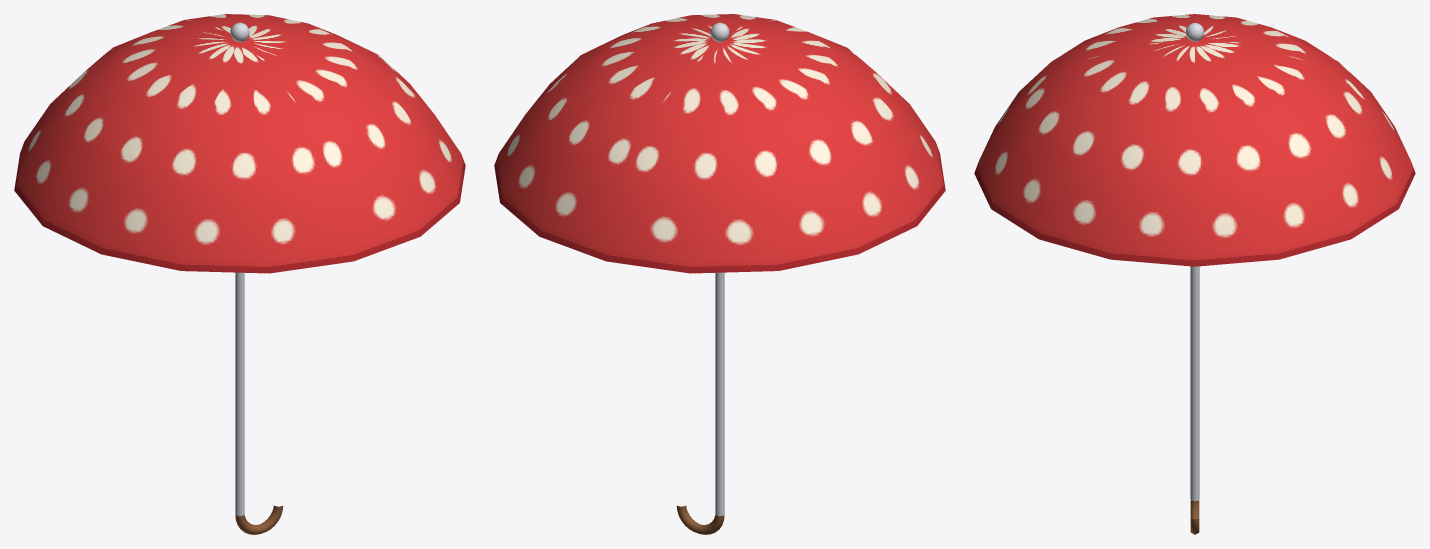
The model's file is fc_umbrella.glb.
3 views of the same model, side by side, from view 1: azimuth 30°, elevation 25°; view 2: azimuth 150°, elevation 25°; view 3: azimuth 270°, elevation 25° (orthographic). The views are drawn at different scales.
Visible parts, largest first — view 1: canopyMesh, shaft, hook; view 2: canopyMesh, shaft, hook; view 3: canopyMesh, shaft.
Part boxes in pixels (box(x1,y1,x2,y2)): canopyMesh: box(14, 14, 465, 273); shaft: box(235, 272, 244, 515); hook: box(235, 505, 283, 534); canopyMesh: box(494, 14, 945, 273); shaft: box(715, 272, 724, 515); hook: box(676, 505, 724, 534); canopyMesh: box(974, 14, 1415, 266); shaft: box(1190, 266, 1199, 500).
Bounding box in the file's own units: 1.02 × 1.27 × 1.02.
Materials: 3 (1 with a texture image).
